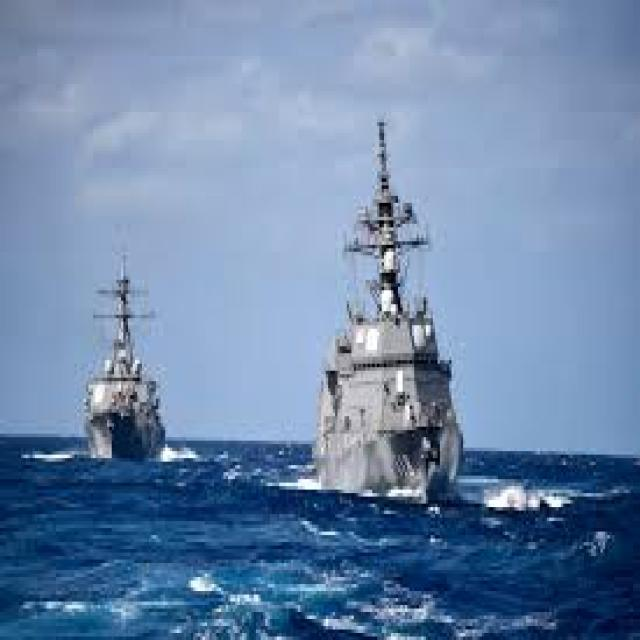navalvessels: (288, 113, 500, 500), (64, 268, 184, 462)
